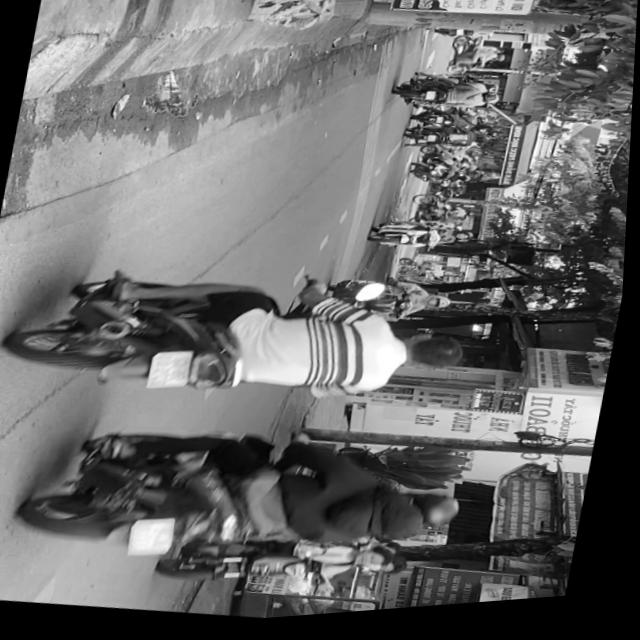helmet: (402, 492, 471, 540)
licenseplate: (1, 230, 488, 450), (17, 390, 486, 618)
motorcyclist: (398, 332, 473, 385)
nohelmet: (152, 349, 199, 396), (135, 518, 182, 564)
